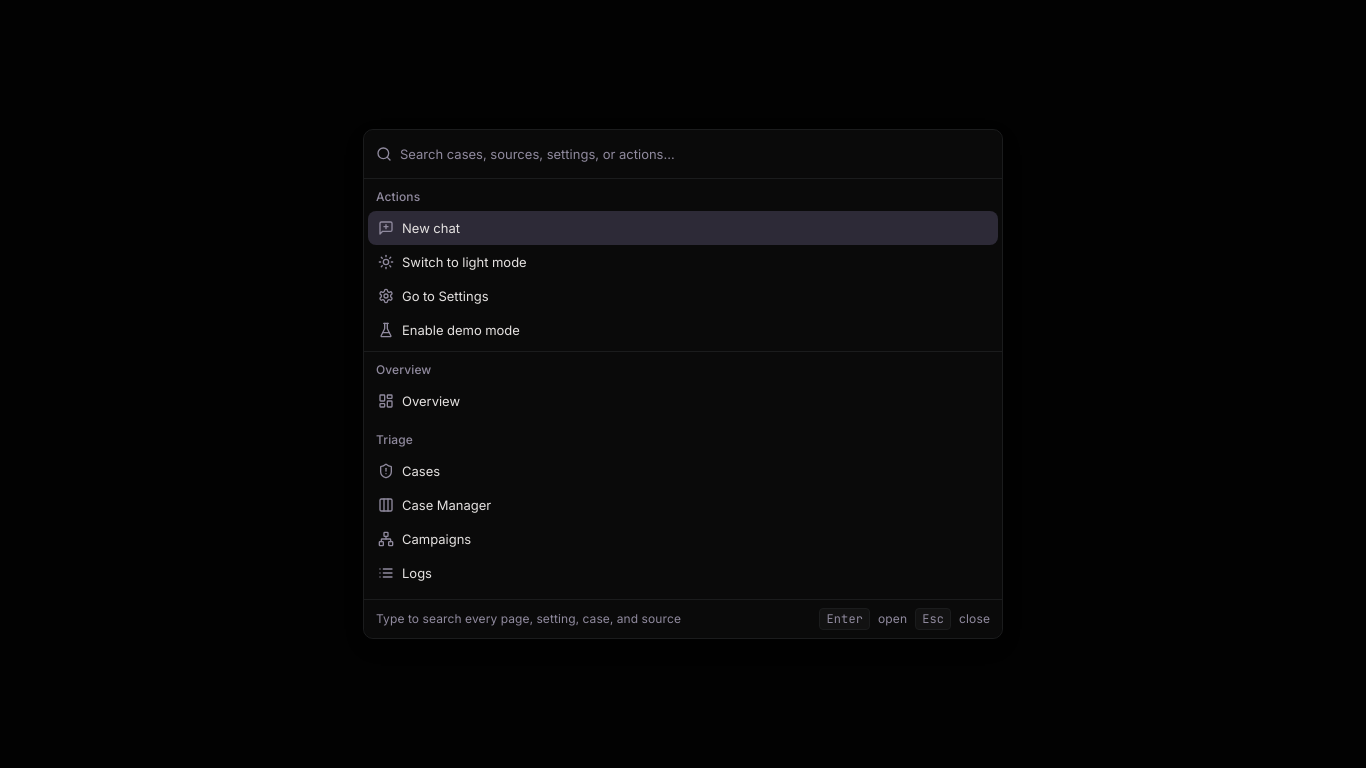
Test case: CommandPalette (W7c) › keeps the blank state concise and reveals child destinations only when searched
The image size is (1366, 768).
Expected: the text "Type to search every page, setting, case, and source" is shown, [376,611,681,627]
Type "Cost" into the dropdown with placeholder "Search cases, sources, settings, or actions…". click: (695, 154)
box: [400,130,990,178]
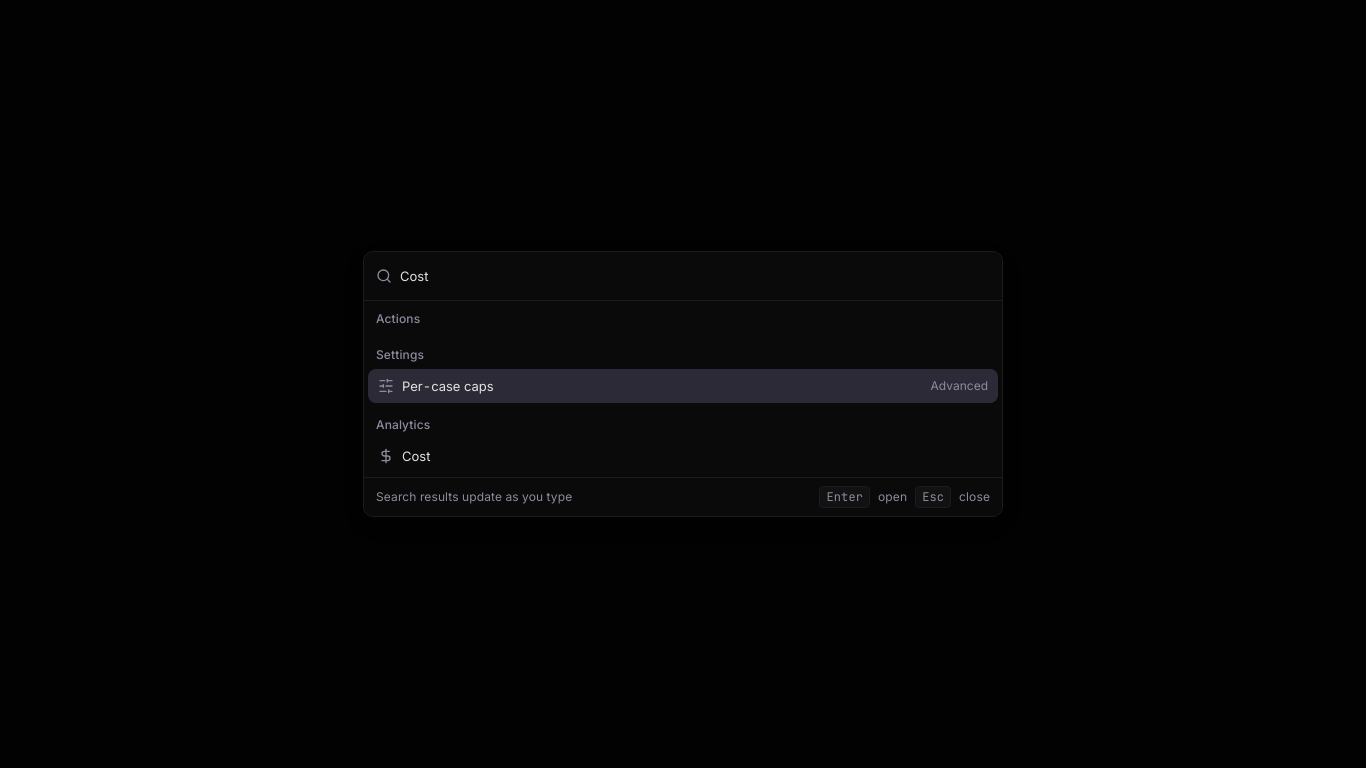
Now the option "Cost" is shown, box [378,448,430,464]
